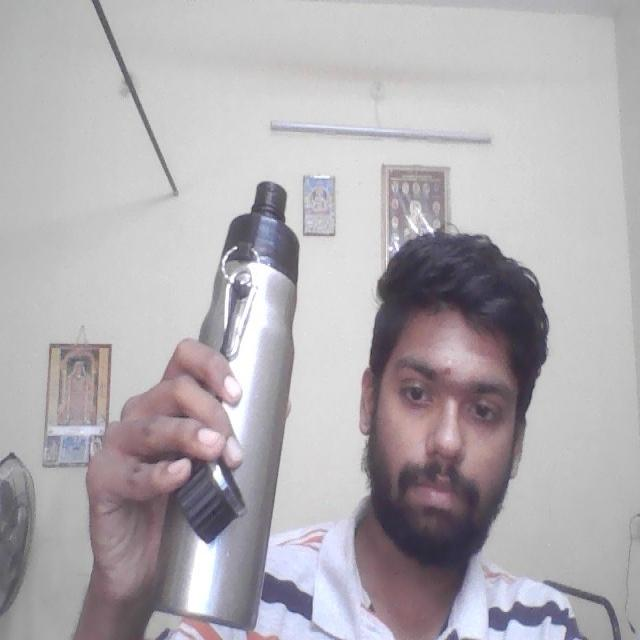Drinking: (166, 177, 305, 628)
